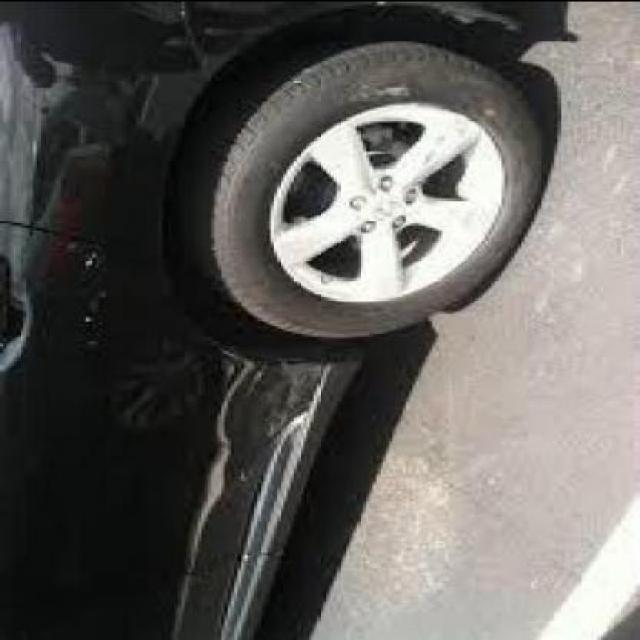damage: (202, 357, 336, 444)
